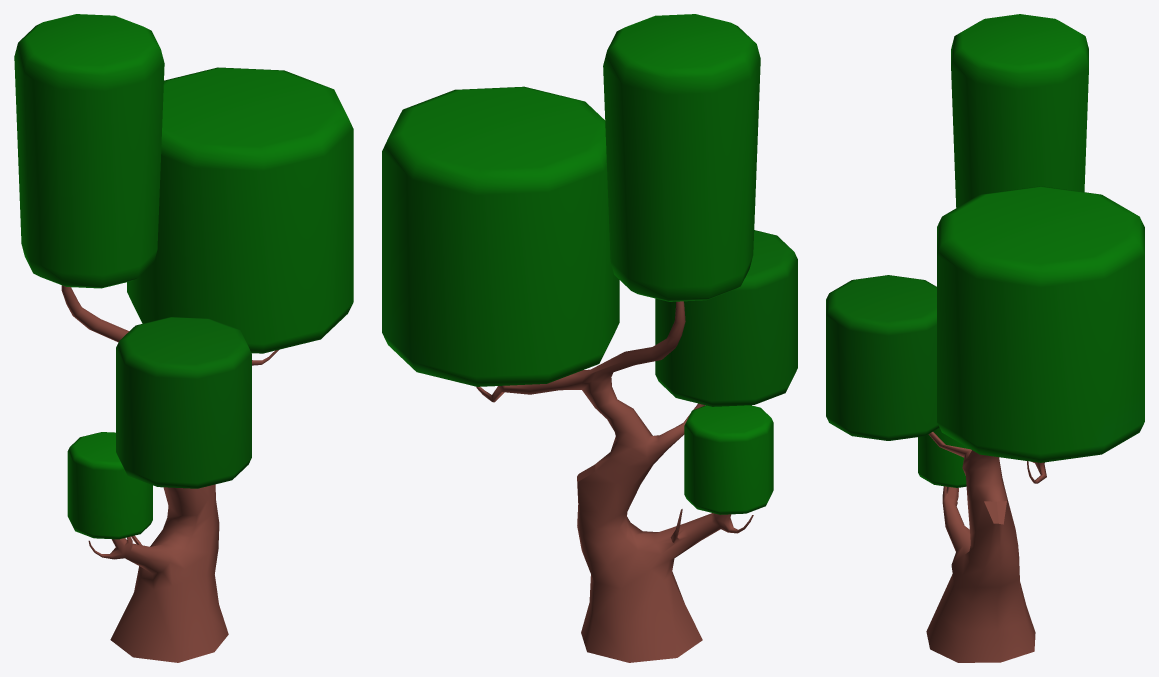
The model's file is SM_Tree_P_17.fbx.
3 views of the same model, side by side, from view 1: azimuth 30°, elevation 25°; view 2: azimuth 150°, elevation 25°; view 3: azimuth 270°, elevation 25° (orthographic). The views are drawn at different scales.
Visible parts, largest first — view 1: SM_Tree_P_17; view 2: SM_Tree_P_17; view 3: SM_Tree_P_17.
Part boxes in pixels (bbox=[...]): SM_Tree_P_17: bbox=[14, 14, 353, 662]; SM_Tree_P_17: bbox=[382, 14, 797, 662]; SM_Tree_P_17: bbox=[826, 14, 1144, 662].
Bounding box in the file's own units: 785 × 1376 × 693.
